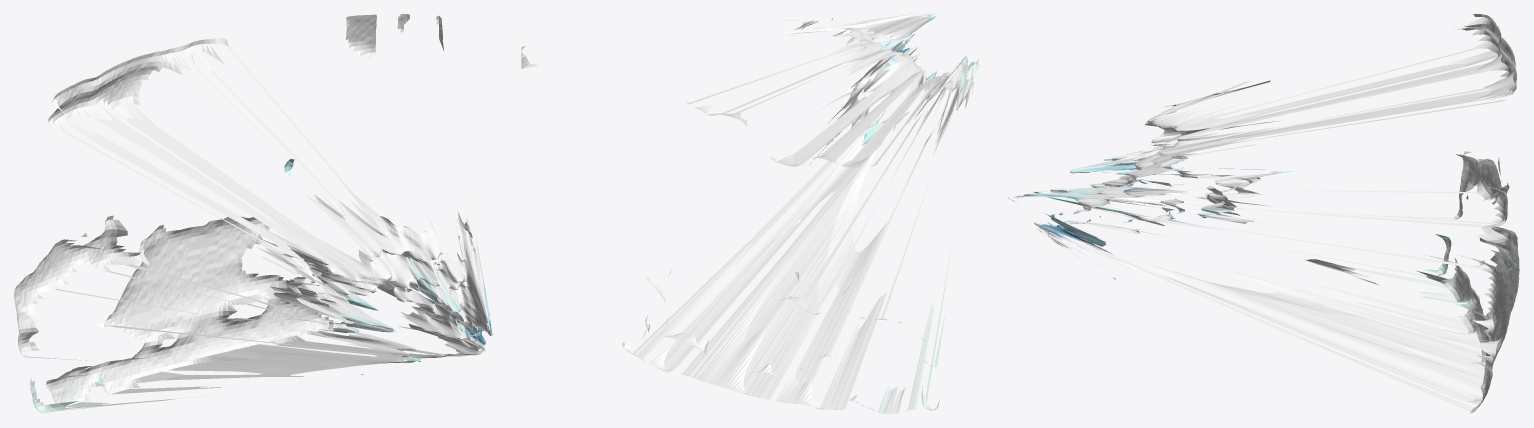
3 views of the same model, side by side, from view 1: azimuth 30°, elevation 25°; view 2: azimuth 150°, elevation 25°; view 3: azimuth 270°, elevation 25° (orthographic). The views are drawn at different scales.
Parts seen in each view (by area): view 1: defaultobject; view 2: defaultobject; view 3: defaultobject.
Part boxes in pixels (x1,y1,x2,y2): defaultobject: (14, 14, 492, 413); defaultobject: (521, 14, 978, 413); defaultobject: (1008, 14, 1519, 413).
Bounding box in the file's own units: 40.22 × 27.56 × 43.64.
Materials: 1 (1 with a texture image).
